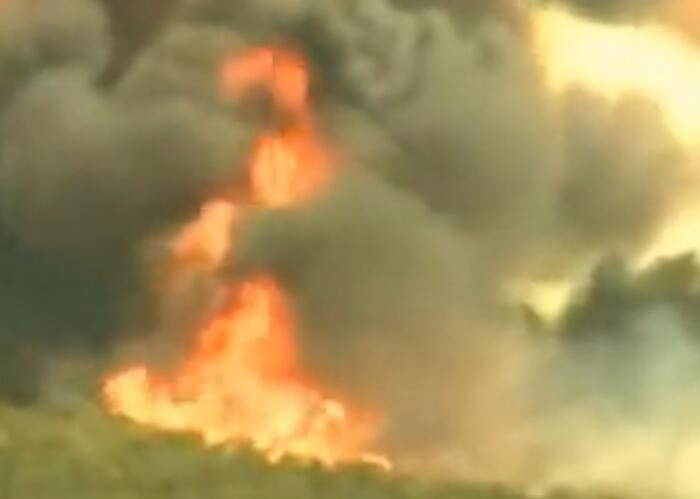fire: (91, 43, 384, 472)
yanwu: (0, 0, 695, 485)
